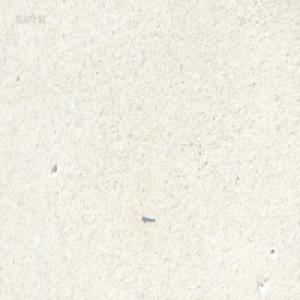Nail: (140, 212, 155, 221)
